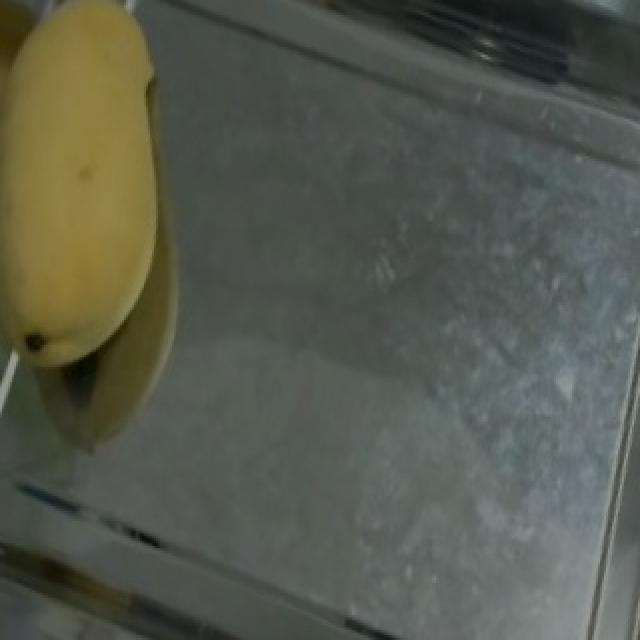fruit: (0, 5, 248, 387)
